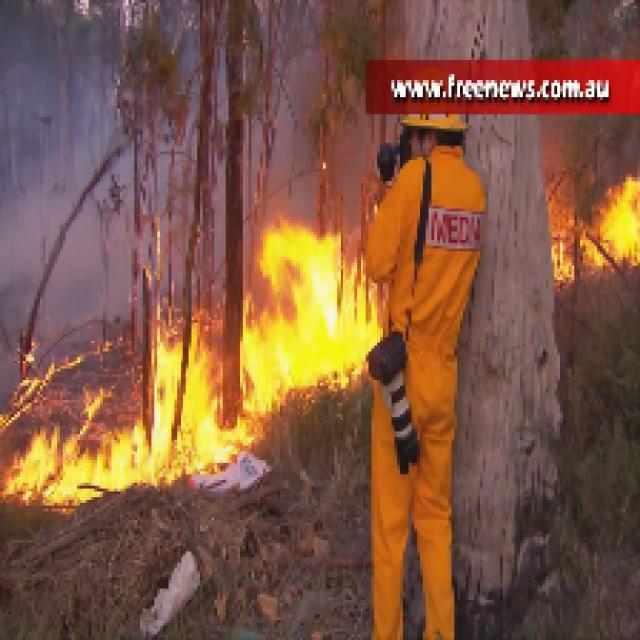Fire: (248, 226, 360, 380), (22, 412, 178, 494), (586, 180, 634, 260)
Smoke: (55, 211, 132, 340)
